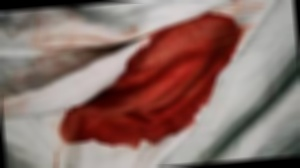blood: (78, 18, 250, 150)
